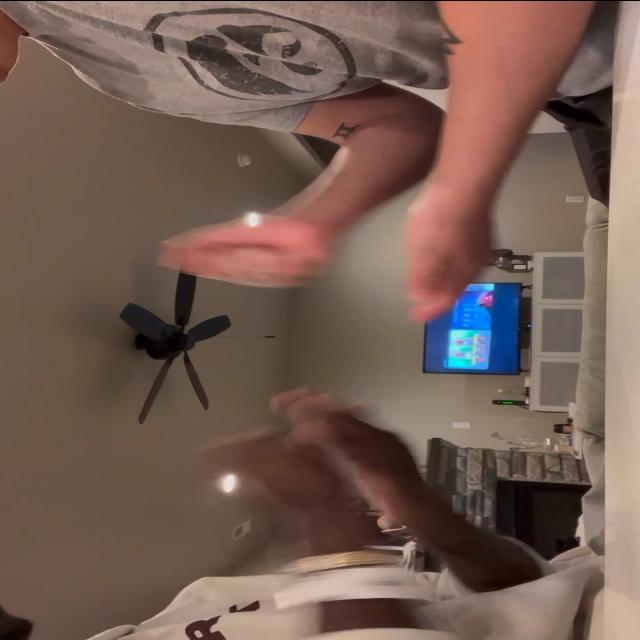Rock: (156, 208, 342, 290), (210, 424, 354, 504)
